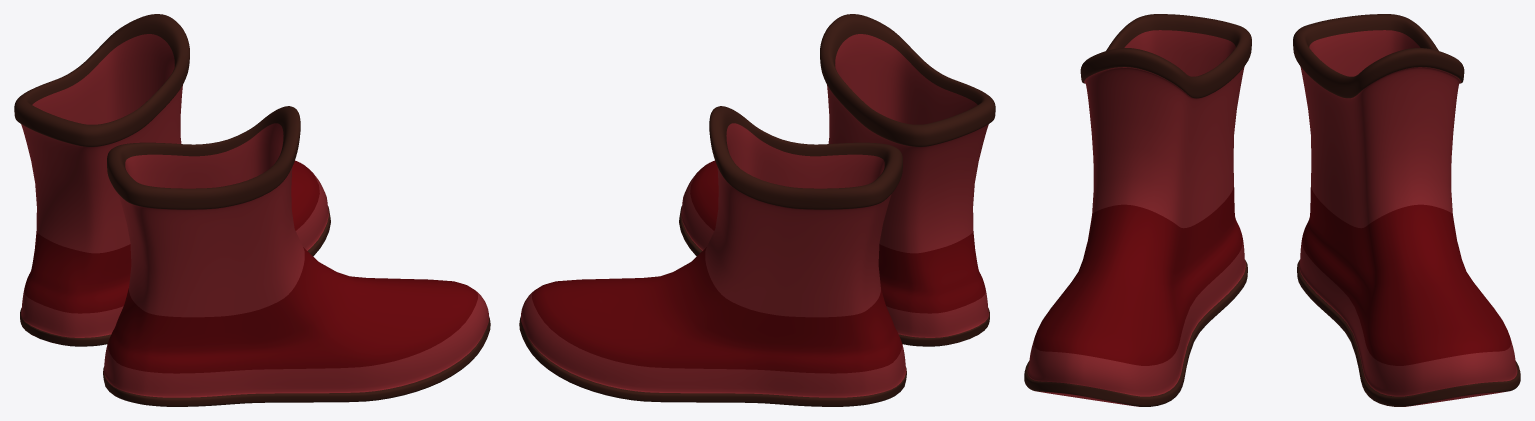
Rendered from сапоги.fbx.
3 renders of one model, left to right at view 1: azimuth 30°, elevation 25°; view 2: azimuth 150°, elevation 25°; view 3: azimuth 270°, elevation 25°, orthographic. The views are drawn at different scales.
Parts seen in each view (by area): view 1: Plane.001; view 2: Plane.001; view 3: Plane.001.
Part boxes in pixels (bbox=[...]): Plane.001: bbox=[14, 14, 490, 406]; Plane.001: bbox=[519, 14, 995, 406]; Plane.001: bbox=[1024, 14, 1520, 406].
Bounding box in the file's own units: 4.68 × 3.64 × 5.57.
Materials: 1 (1 with a texture image).
